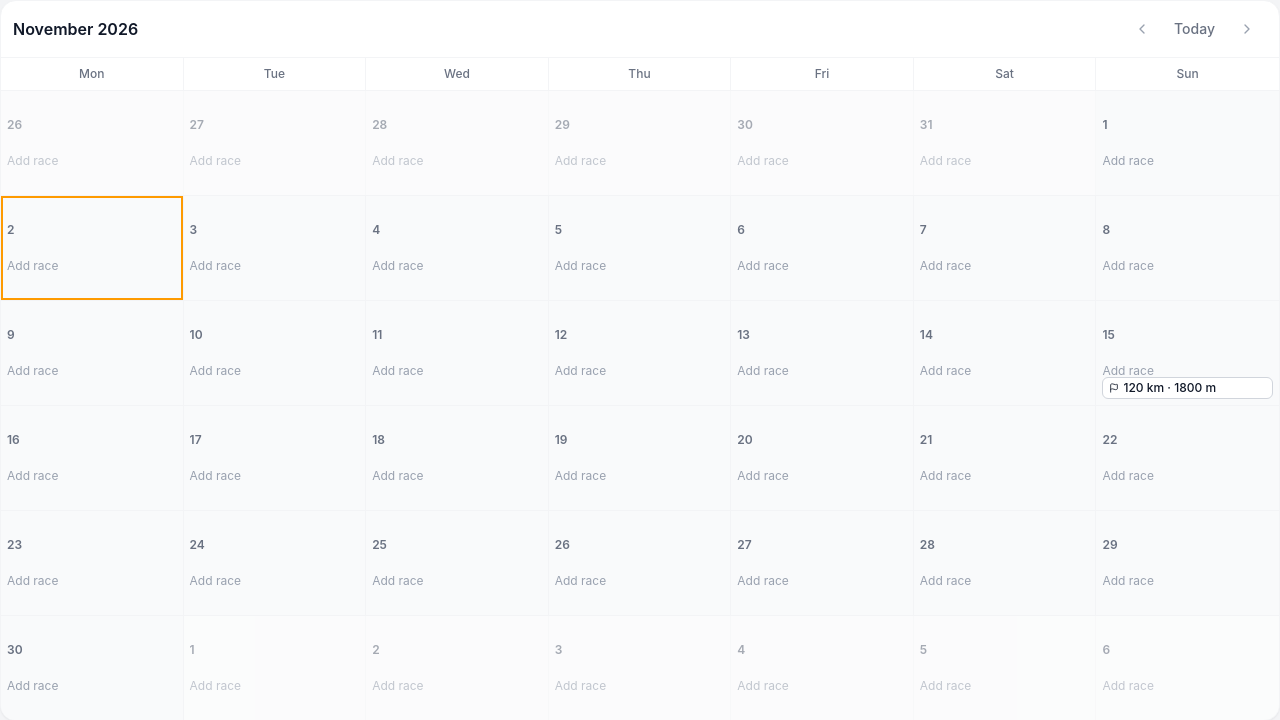
Test: TrainingCalendar › closes the event editor and resets the edit form via "New"
Click the button "15 Add race 120 km · 1800 m" at (1188,353), box top-left (1096, 301), bottom-right (1279, 405)
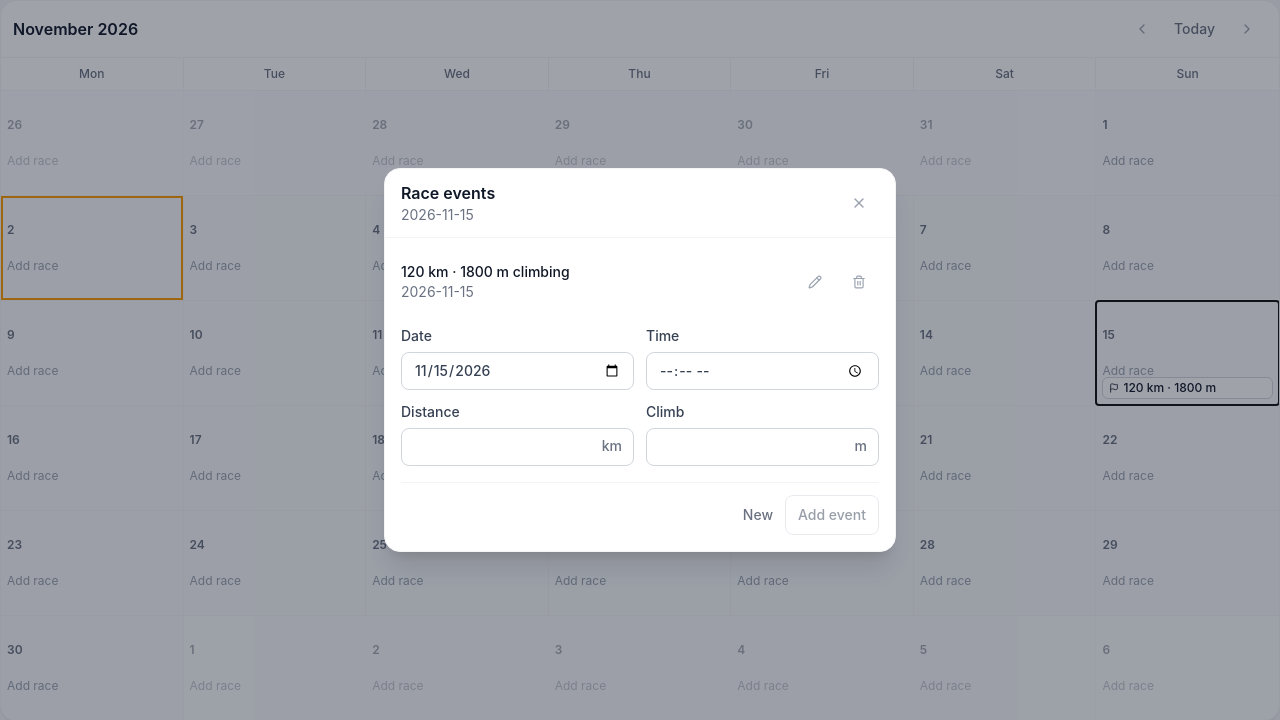
Note: Enter edit mode, then reset to a blank "New" form
Click the button named "Edit race event" at (815,282), box top-left (795, 262), bottom-right (835, 302)
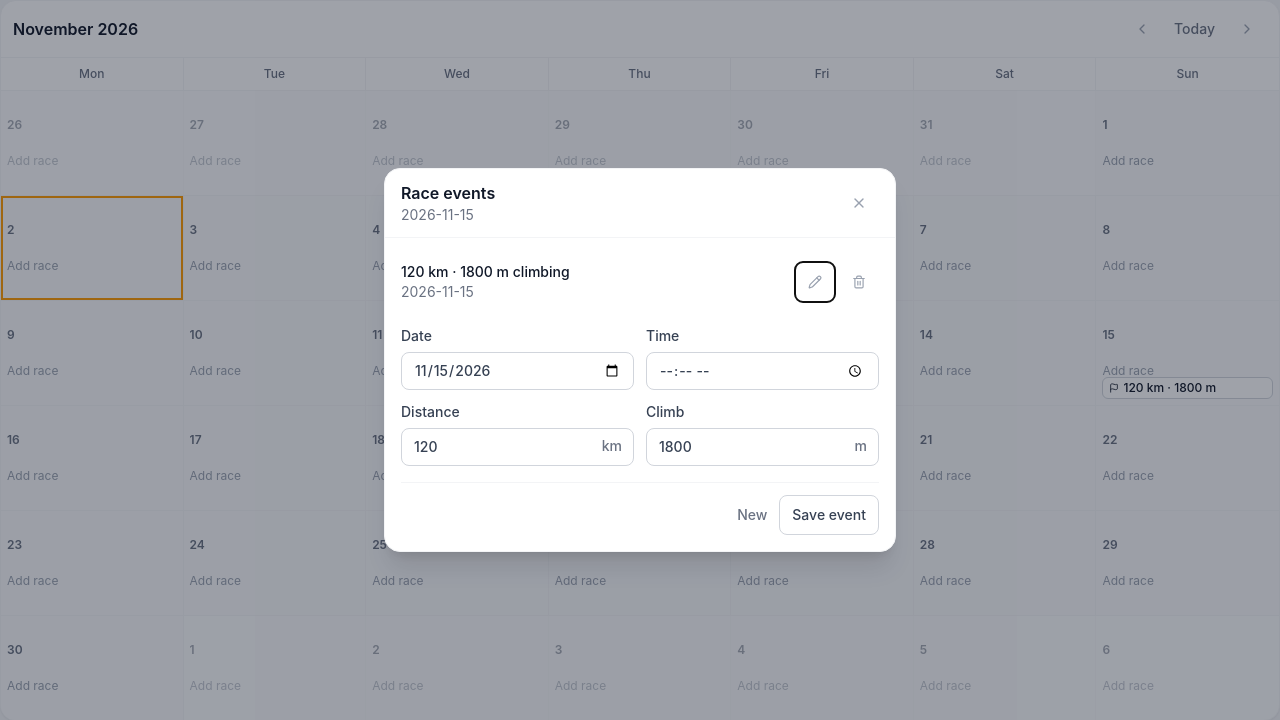
Check: the number field labelled "Distance km" holds "120", box top-left (401, 428), bottom-right (634, 466)
Click the button "New" at (752,515), box top-left (737, 495), bottom-right (767, 535)
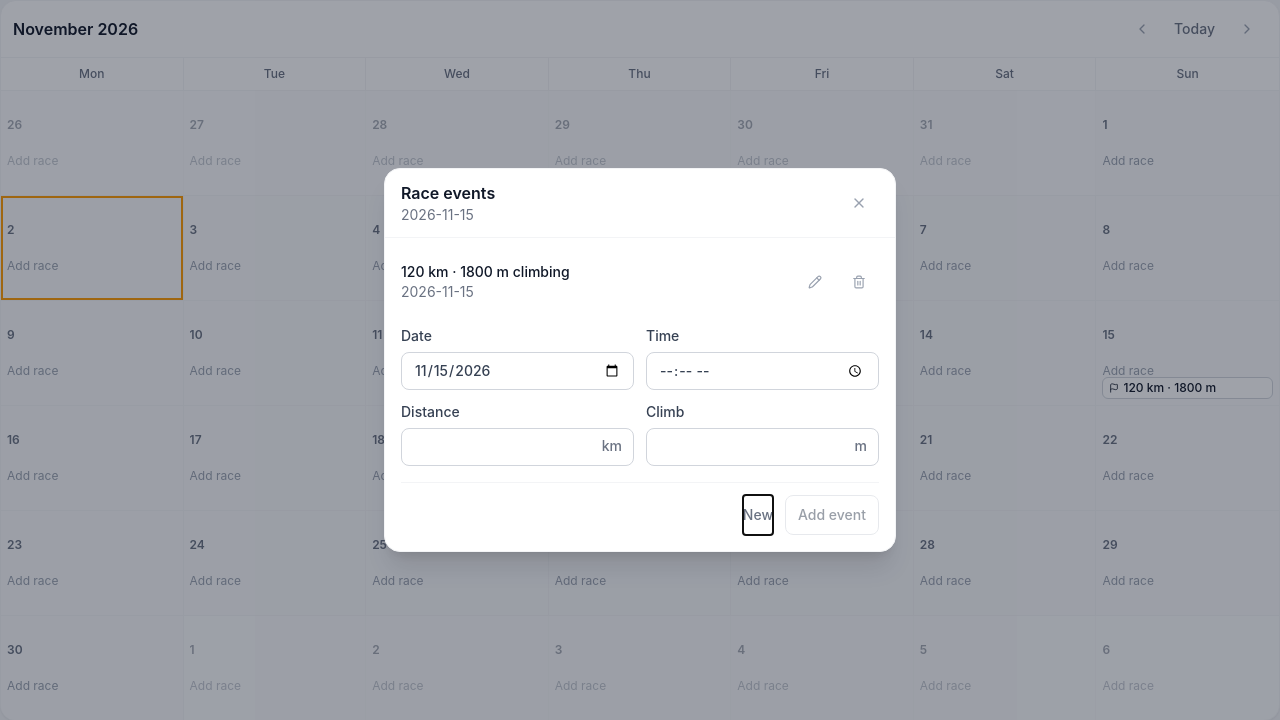
Check: the button "Add event" is shown, box top-left (785, 495), bottom-right (879, 535)
Note: Close the editor entirely
Click the button named "Close race event editor" at (859,203), box top-left (839, 183), bottom-right (879, 223)
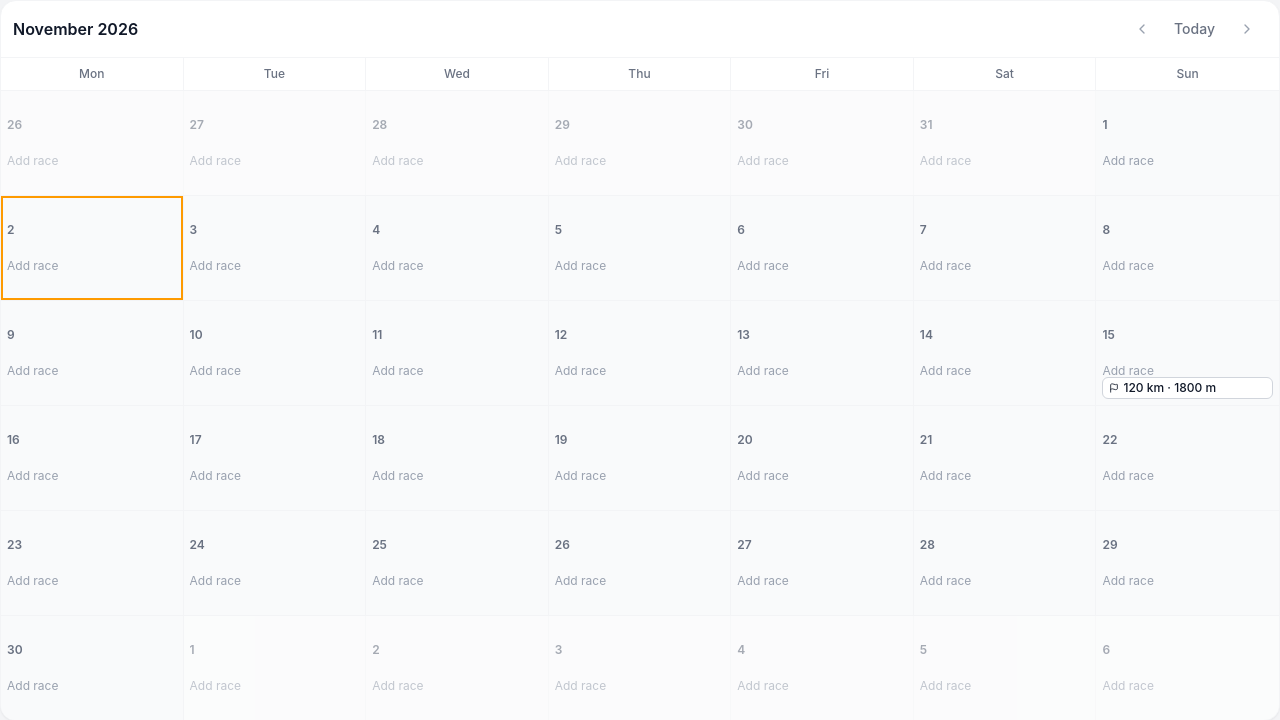
Check: the label labelled "Distance" is gone
